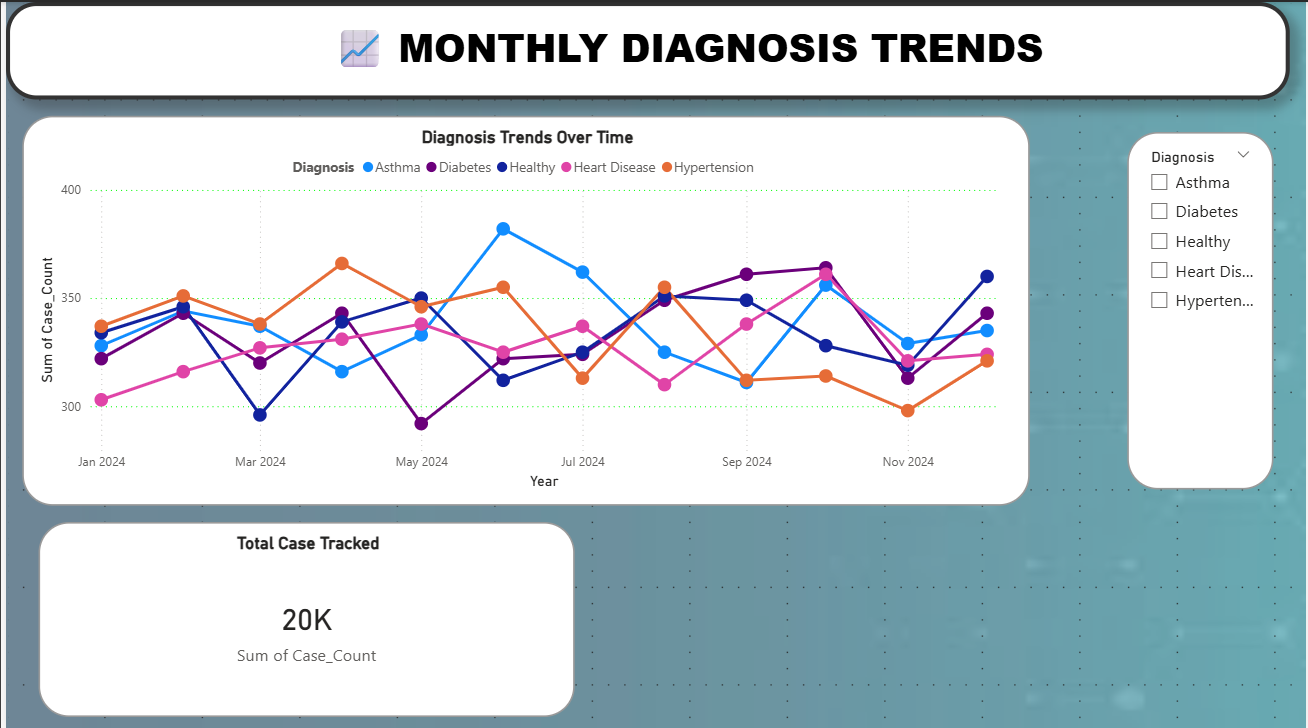

What the dashboard file says about the page in this screenshot:
{"tool":"powerbi","page":{"name":"Trends","canvas":[1280,720],"ordinal":2},"visuals":[{"type":"textbox","box":[0,0,1264,96],"z":0},{"type":"lineChart","title":"Diagnosis Trends Over Time","fields":{"Y":["Sum(monthly_trends.Case_Count)"],"Series":["monthly_trends.Diagnosis"],"Category":["monthly_trends.Visit_Month.Variation.Date Hierarchy.Year","monthly_trends.Visit_Month.Variation.Date Hierarchy.Quarter","monthly_trends.Visit_Month.Variation.Date Hierarchy.Month","monthly_trends.Visit_Month.Variation.Date Hierarchy.Day"]},"box":[16,112,992,384],"z":1},{"type":"slicer","fields":{"Values":["monthly_trends.Diagnosis"]},"box":[1104,128,144,352],"z":2},{"type":"card","title":"Total Case Tracked","fields":{"Values":["Sum(monthly_trends.Case_Count)"]},"box":[32,512,528,192],"z":3}]}

Visuals, with their boxes in screenshot pixels (x1, y1, x2, y2), scaled from the page's 1280x720 canvas onto the 1308x728 screenshot:
textbox: 0:0:1292:97
"Diagnosis Trends Over Time" lineChart: 16:113:1030:502
slicer - monthly_trends.Diagnosis: 1128:129:1275:485
"Total Case Tracked" card: 33:518:572:712
